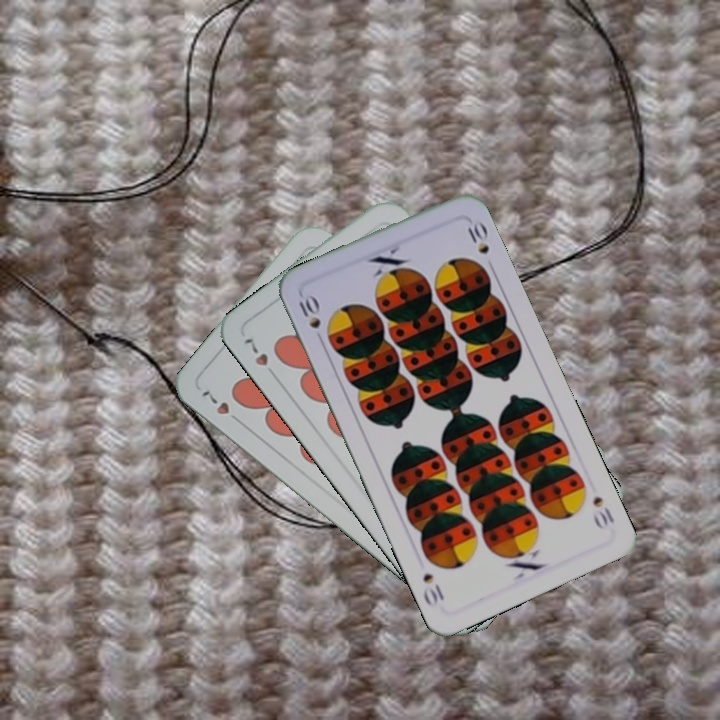H7: (197, 384, 245, 427), (239, 334, 281, 382)
S10: (294, 290, 327, 347), (588, 492, 617, 533)
